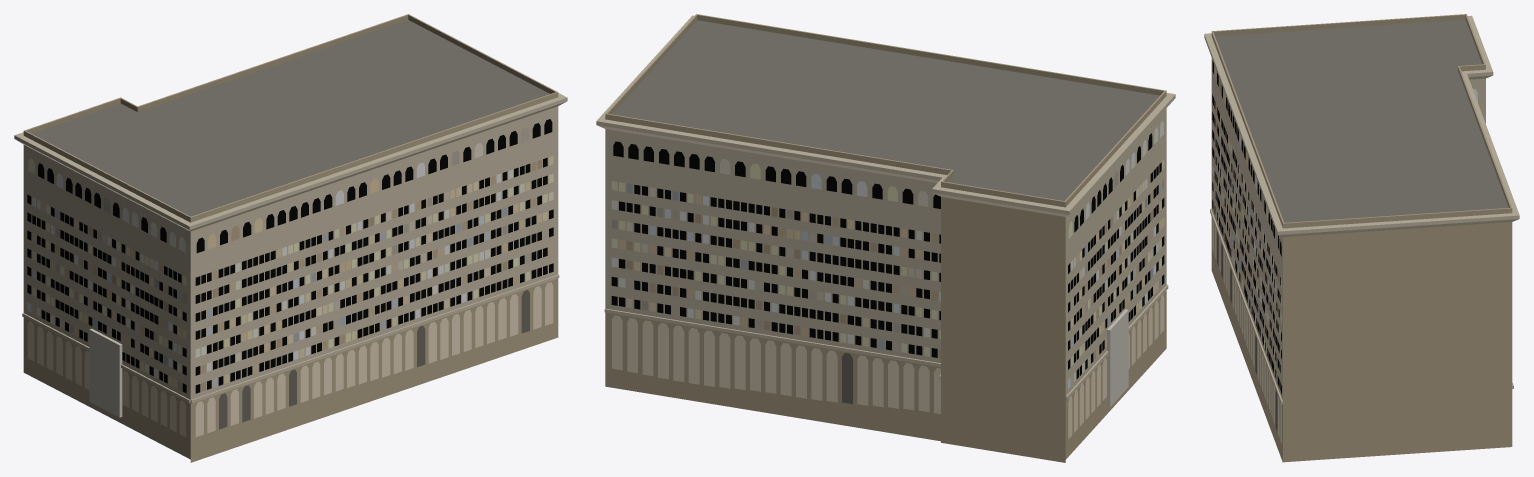
The model's file is mills_lod1.glb.
3 renders of one model, left to right at view 1: azimuth 30°, elevation 25°; view 2: azimuth 150°, elevation 25°; view 3: azimuth 270°, elevation 25°, orthographic. The views are drawn at different scales.
Visible parts, largest first — view 1: L1_stone, L1_roof, L1_win, L1_shop, L1_granite; view 2: L1_stone, L1_roof, L1_win, L1_shop, L1_granite; view 3: L1_stone, L1_roof, L1_win, L1_shop.
Part boxes in pixels (box(x1,y1,x2,y2)): L1_stone: box(14, 14, 567, 462); L1_roof: box(32, 20, 549, 216); L1_win: box(27, 119, 553, 393); L1_shop: box(27, 282, 553, 436); L1_granite: box(89, 328, 122, 417); L1_stone: box(596, 14, 1175, 462); L1_roof: box(612, 20, 1159, 200); L1_win: box(611, 121, 1164, 388); L1_shop: box(612, 294, 1164, 438); L1_granite: box(1107, 309, 1128, 407); L1_stone: box(1204, 14, 1519, 462); L1_roof: box(1215, 19, 1508, 222); L1_win: box(1212, 61, 1477, 393); L1_shop: box(1212, 219, 1281, 444).
Size of the model in its own units: 95.19 by 51.25 by 58.8.
